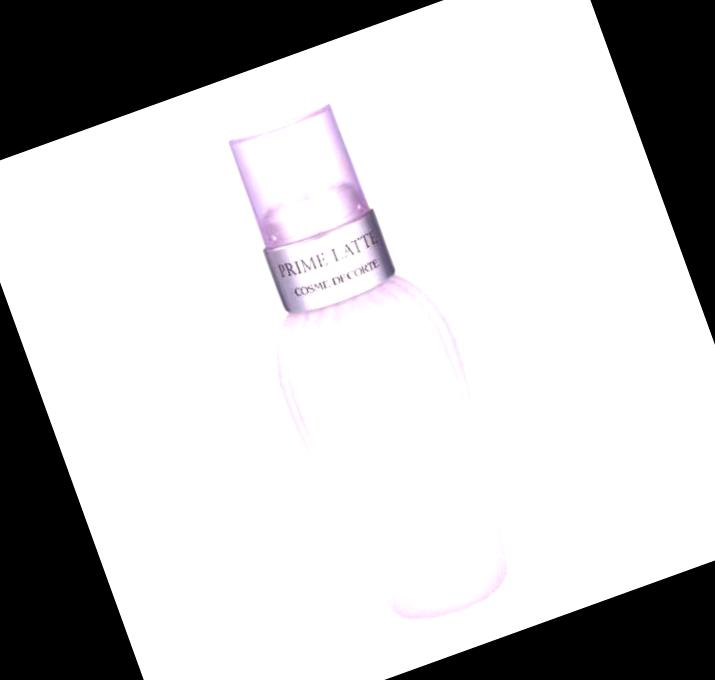cosmetic: (204, 85, 539, 642)
